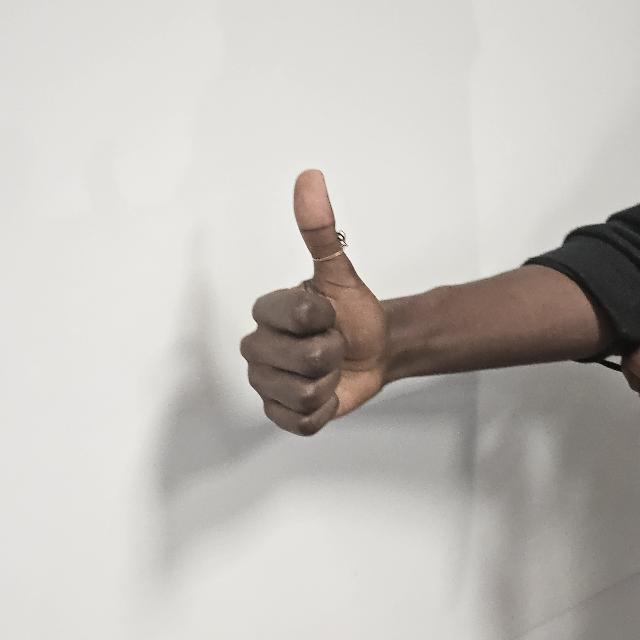Start: (237, 150, 403, 460)
